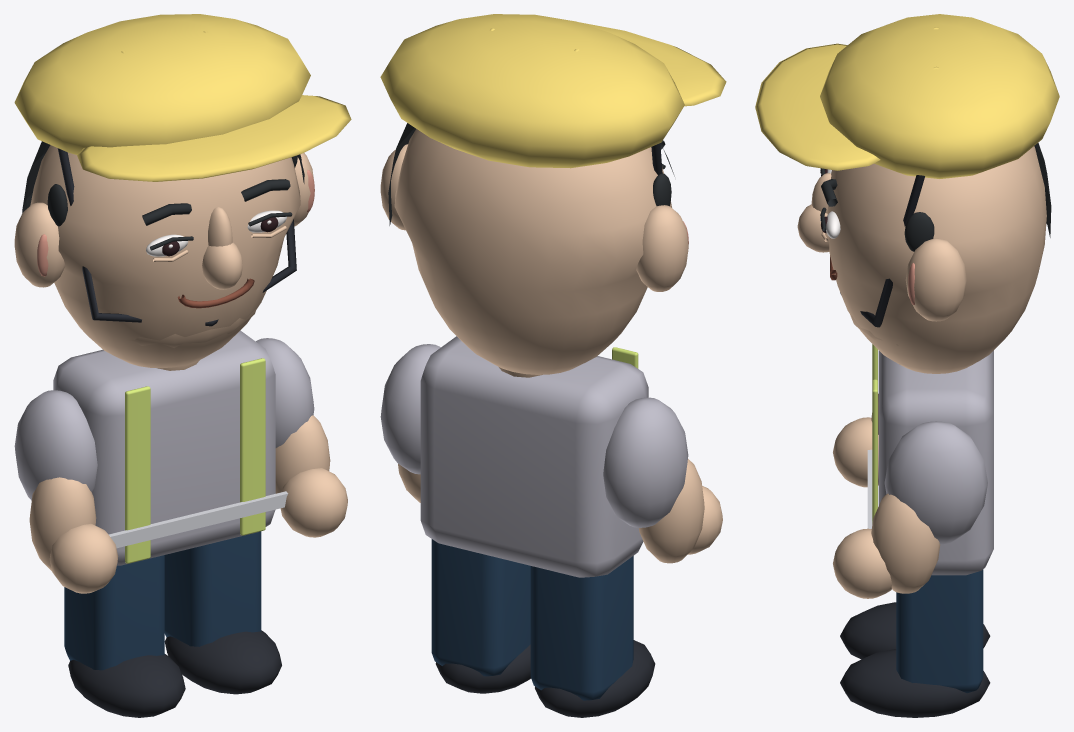
Rendered from longlong-09.glb.
3 views of the same model, side by side, from view 1: azimuth 30°, elevation 25°; view 2: azimuth 150°, elevation 25°; view 3: azimuth 270°, elevation 25° (orthographic). The views are drawn at different scales.
Visible parts, largest first — view 1: Trousers, Side-swept hair; view 2: Trousers; view 3: Trousers, Side-swept hair.
Part boxes in pixels (bbox=[...]): Trousers: bbox=[14, 14, 351, 717]; Side-swept hair: bbox=[22, 141, 304, 212]; Trousers: bbox=[380, 14, 726, 717]; Trousers: bbox=[755, 14, 1059, 717]; Side-swept hair: bbox=[1034, 143, 1051, 237].
Size of the model in its own units: 1.42 by 3 by 1.29.
Materials: 2 (2 with a texture image).
